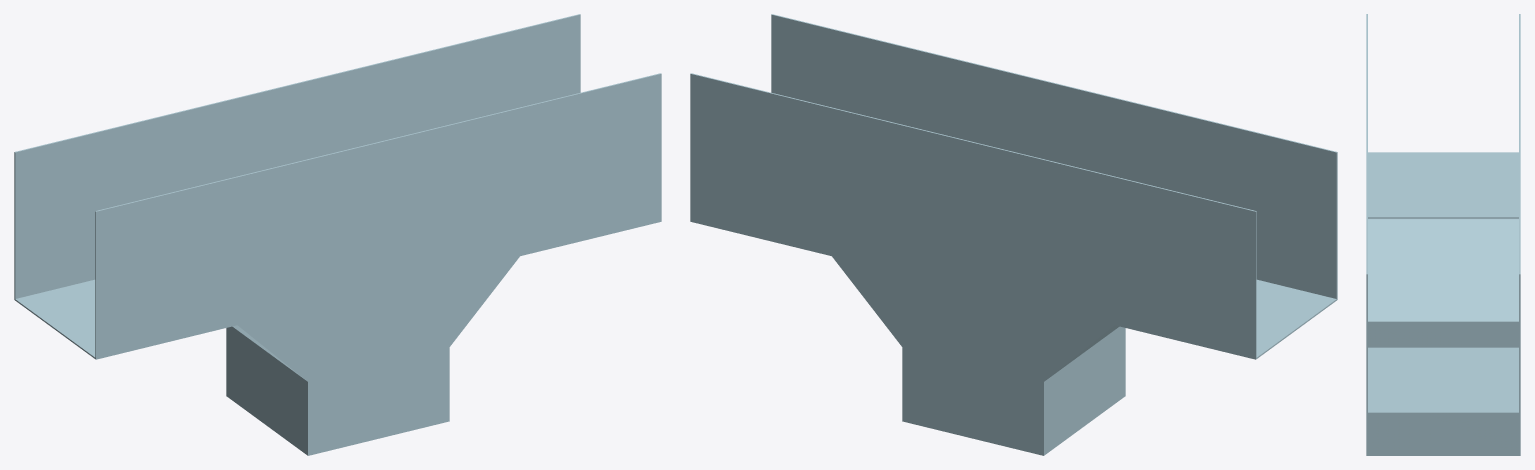
The picture shows the model from 3 angles, left to right: view 1: azimuth 30°, elevation 25°; view 2: azimuth 150°, elevation 25°; view 3: azimuth 270°, elevation 25°; orthographic projection. The views are drawn at different scales.
Visible parts, largest first — view 1: L3-C15; view 2: L3-C15; view 3: L3-C15.
Part boxes in pixels (bbox=[...]): L3-C15: bbox=[14, 14, 661, 455]; L3-C15: bbox=[690, 14, 1337, 455]; L3-C15: bbox=[1366, 14, 1520, 455].
Size of the model in its own units: 0.8 by 0.4 by 0.2.
